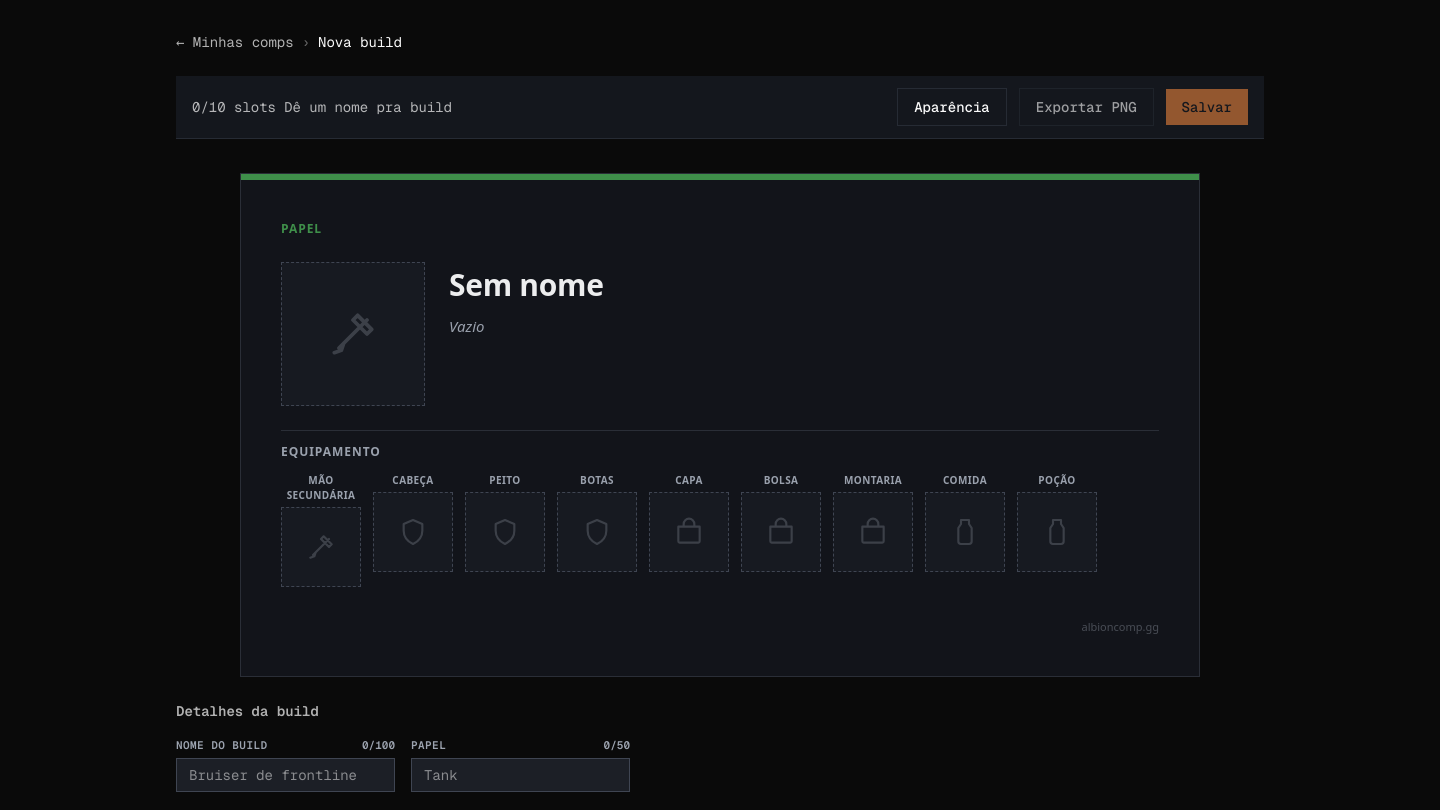
it: /build/new — appearance panel layout (ACM-095) › docks the panel as a layout sibling of the card (not an overlay) once the window is wide enough to keep the card legible
Click the button "Aparência" at (952, 107), box [897, 88, 1007, 126]
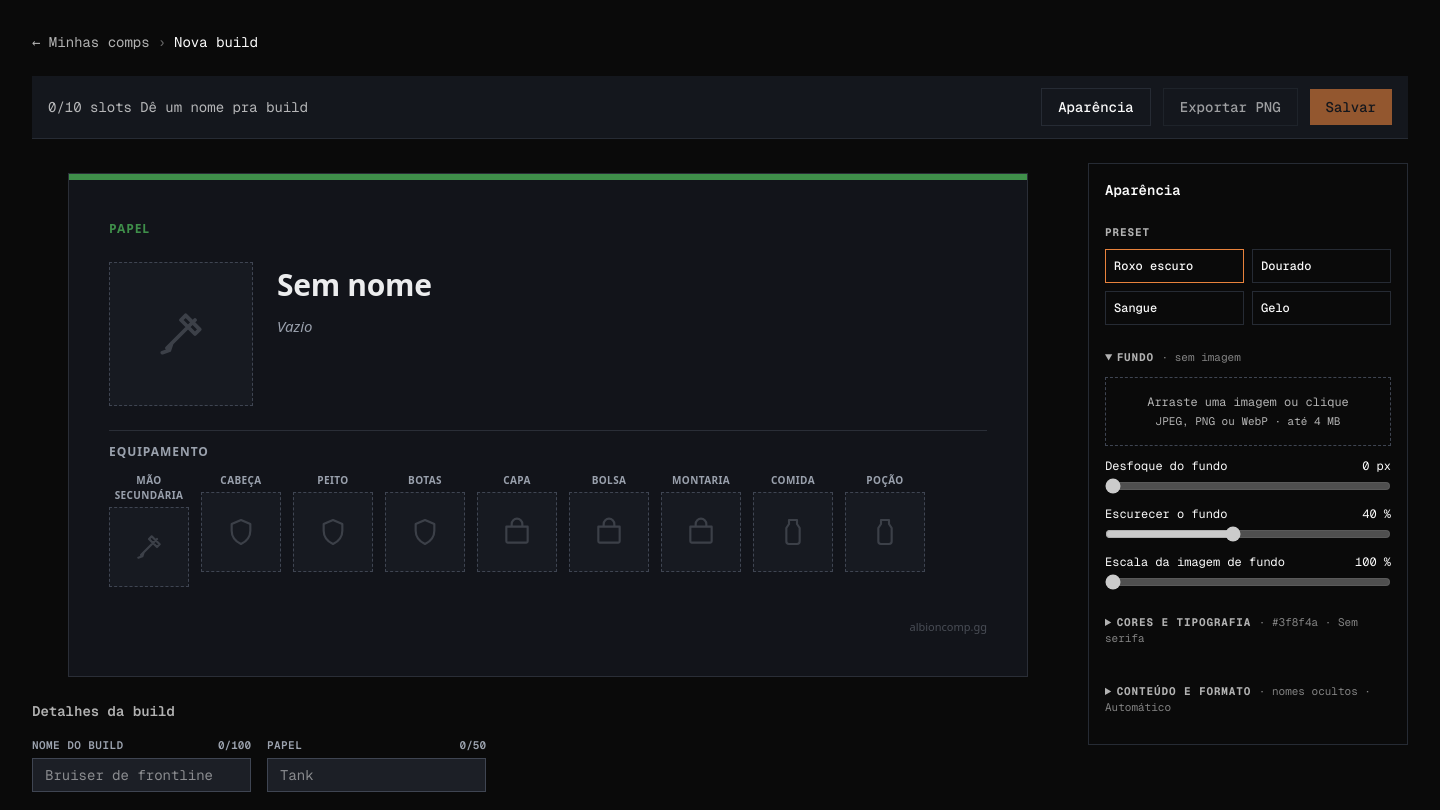
Expected: the element with id "capture-root" is shown, [68, 173, 1028, 676]
Result: the element with id "theme-panel" is shown at [1088, 163, 1408, 745]
